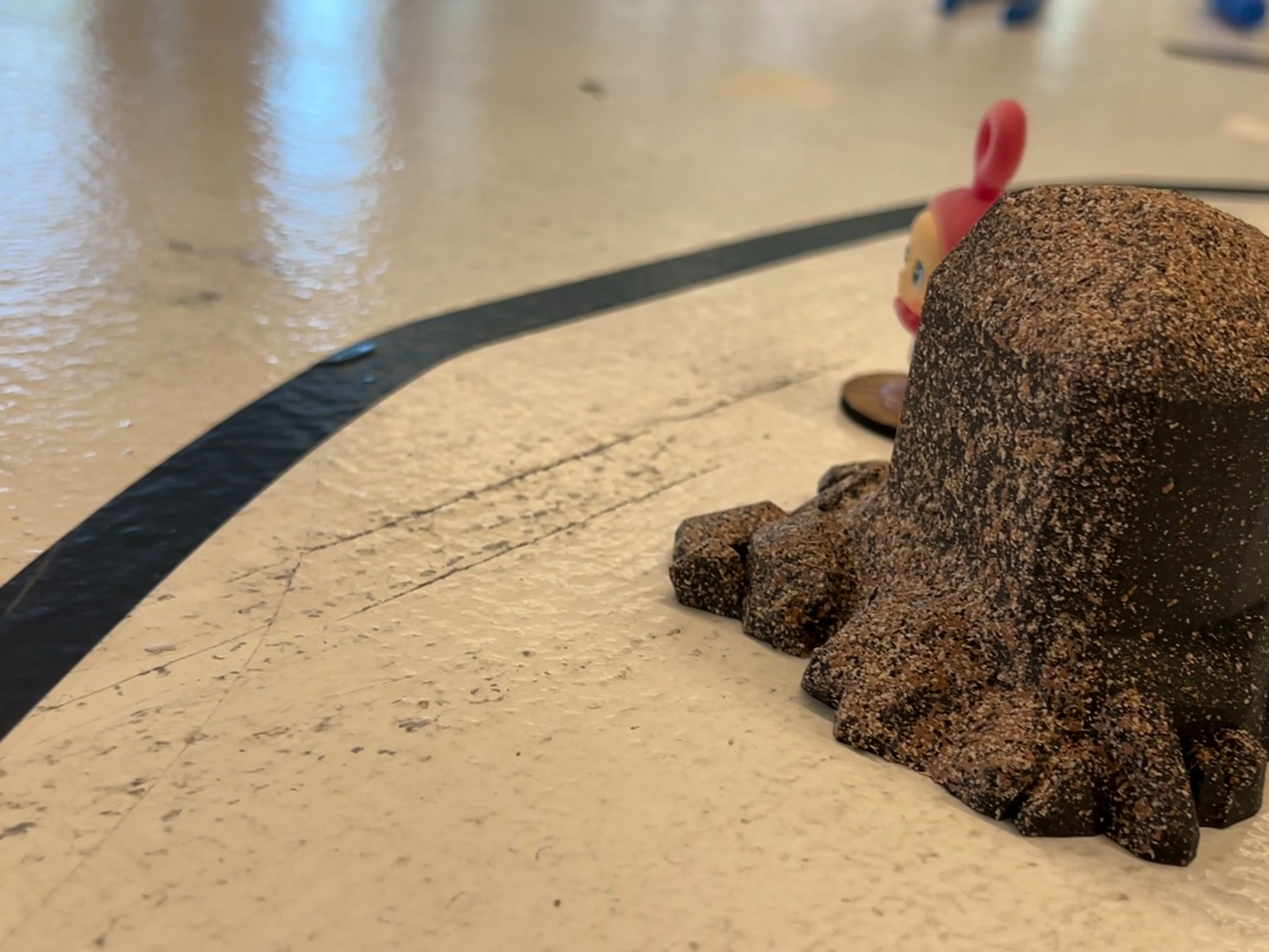teletubby: (894, 100, 1026, 335)
